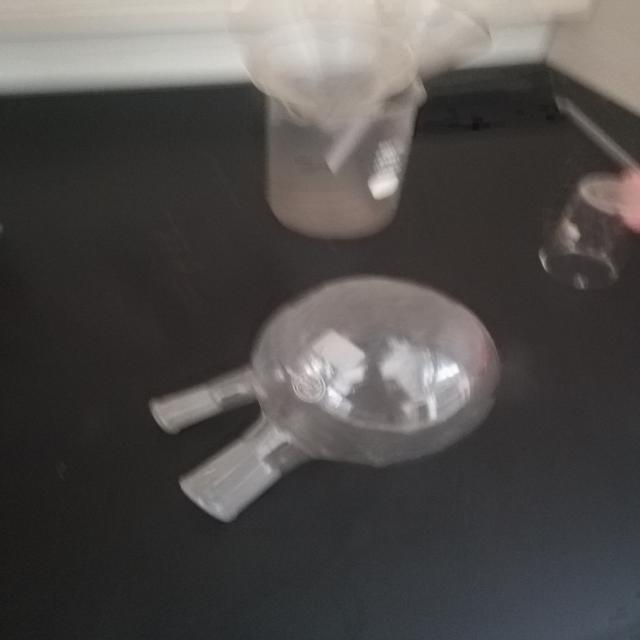Round_Bottom_Flask_Borosilicate_Glass_2_Neck: (100, 250, 538, 550)
